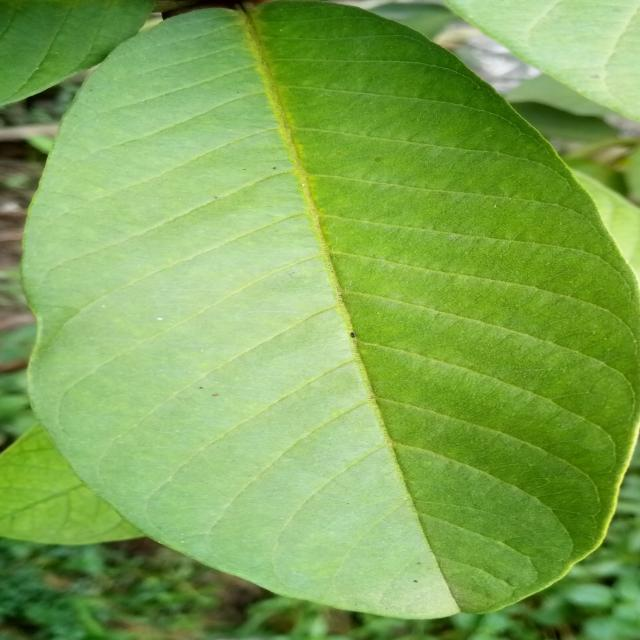Disease Free: (23, 1, 637, 619)
